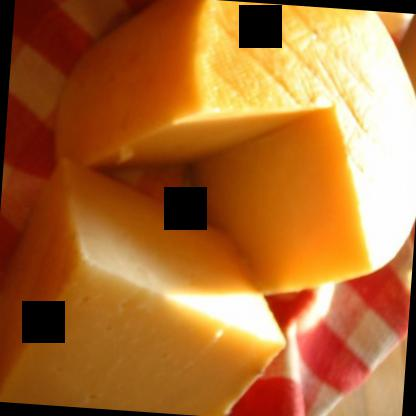cheese: (65, 0, 415, 285)
